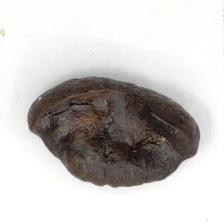NG: (27, 86, 114, 197), (115, 101, 204, 196)
